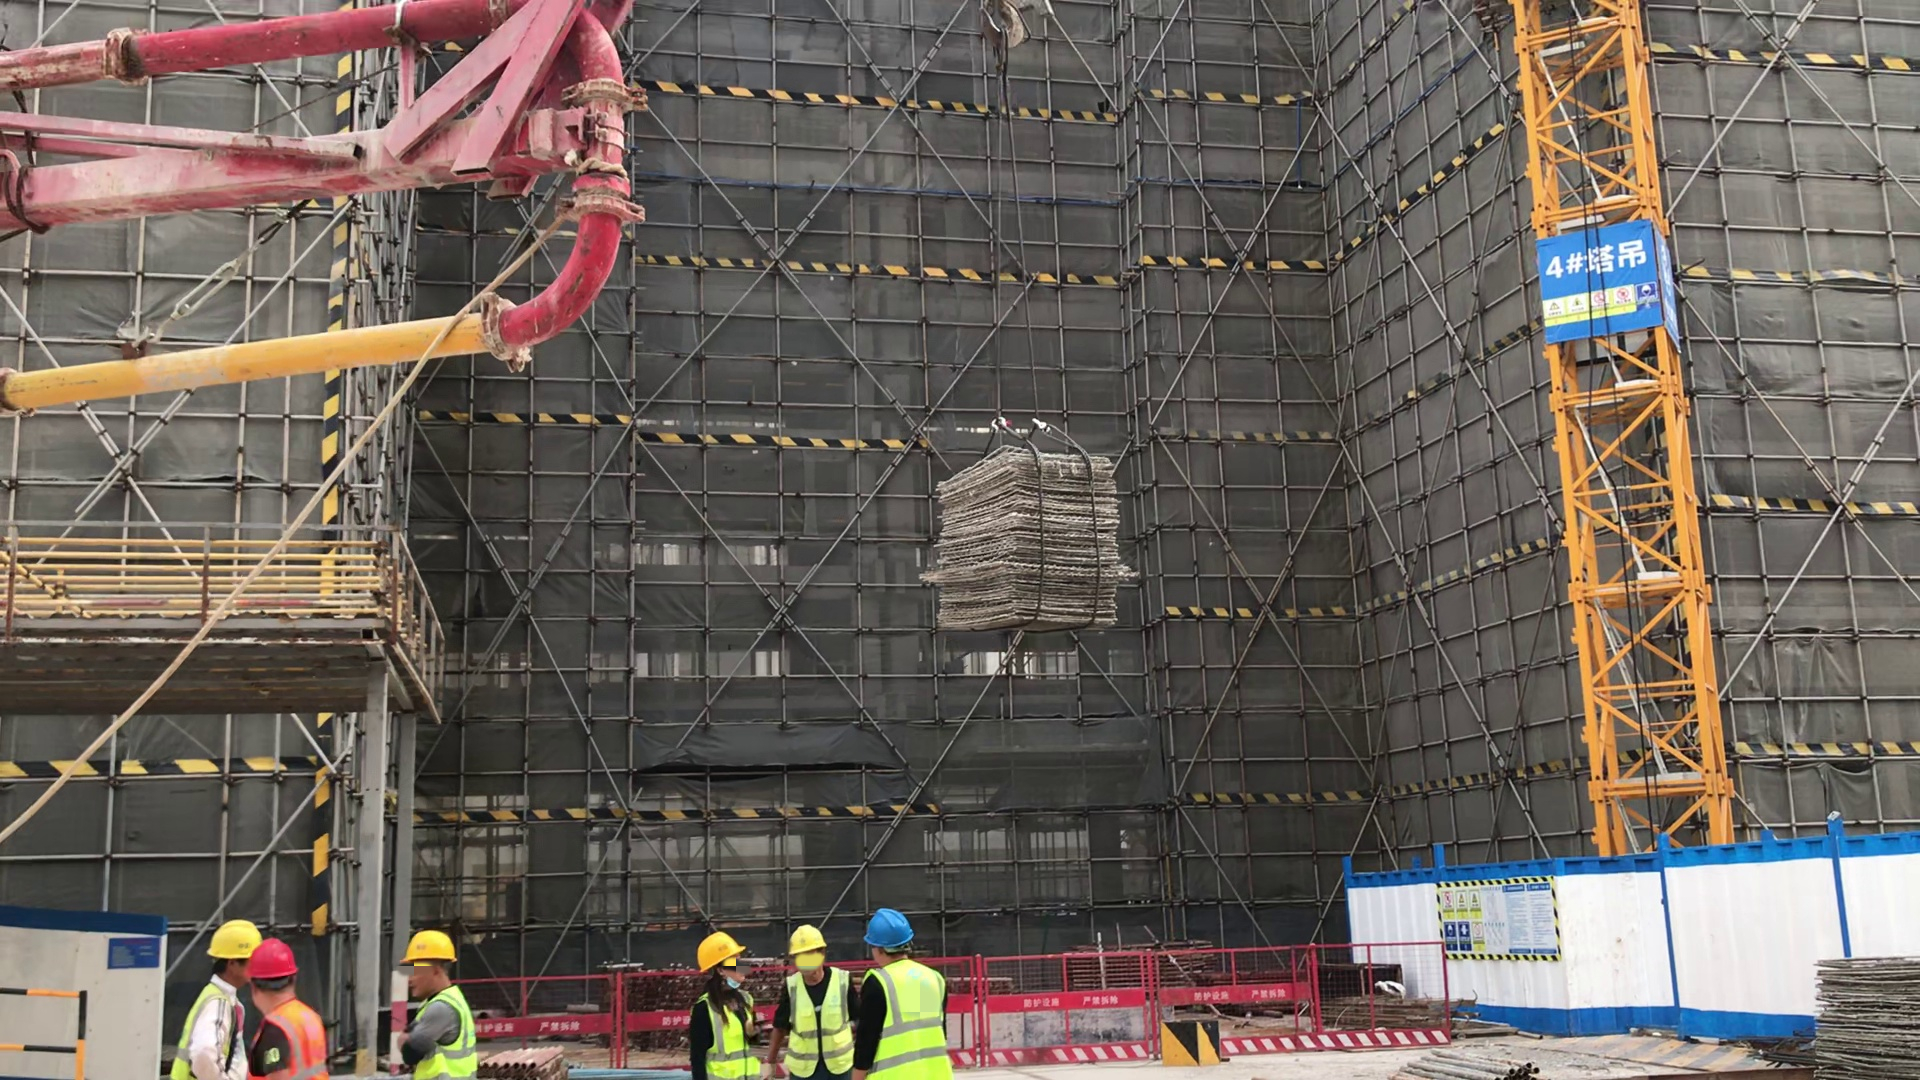helmet: (247, 938, 303, 983), (862, 909, 915, 956), (203, 919, 259, 960), (397, 932, 458, 969), (695, 935, 751, 968), (784, 924, 836, 953)
person: (854, 909, 961, 1080), (170, 917, 262, 1080), (774, 920, 858, 1080), (241, 936, 332, 1080), (398, 931, 480, 1080), (685, 932, 761, 1080)
vest: (859, 967, 952, 1080), (774, 968, 862, 1078), (173, 979, 248, 1080), (689, 991, 758, 1080), (410, 989, 477, 1080), (262, 995, 324, 1080)
